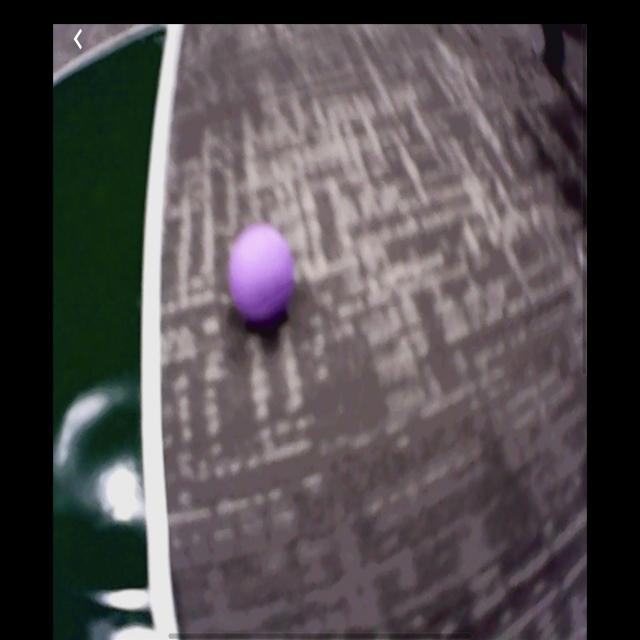ball: (227, 222, 297, 325)
